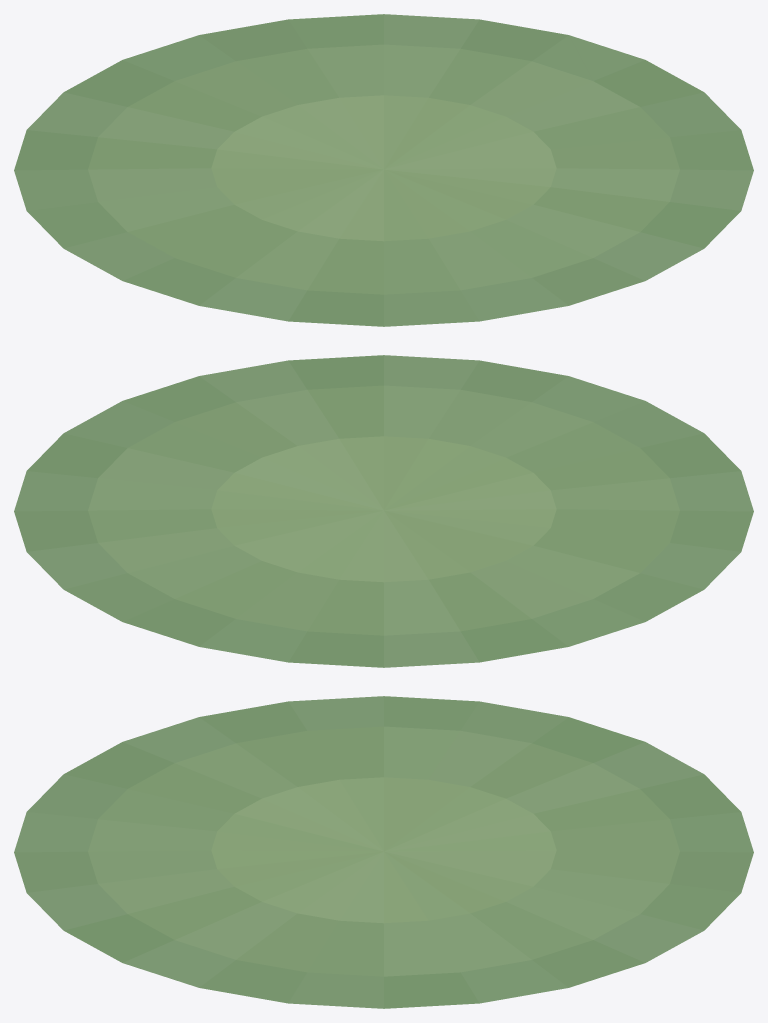
Rendered from showcase_ground.fbx.
The picture shows the model from 3 angles, top to bottom: view 1: azimuth 30°, elevation 25°; view 2: azimuth 150°, elevation 25°; view 3: azimuth 270°, elevation 25°; orthographic projection.
Visible parts, largest first — view 1: showcase_ground; view 2: showcase_ground; view 3: showcase_ground.
Part boxes in pixels (box(x1,y1,x2,y2)): showcase_ground: box(14, 14, 753, 326); showcase_ground: box(14, 355, 753, 667); showcase_ground: box(14, 696, 753, 1008).
Size of the model in its own units: 3000 by 10 by 3000.
